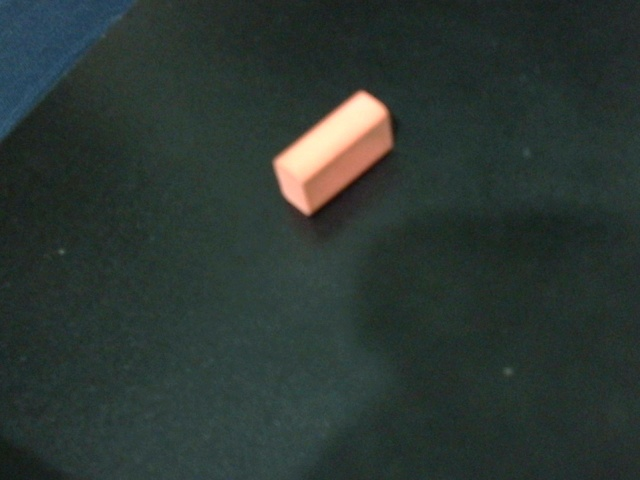eraser: (244, 83, 434, 228)
